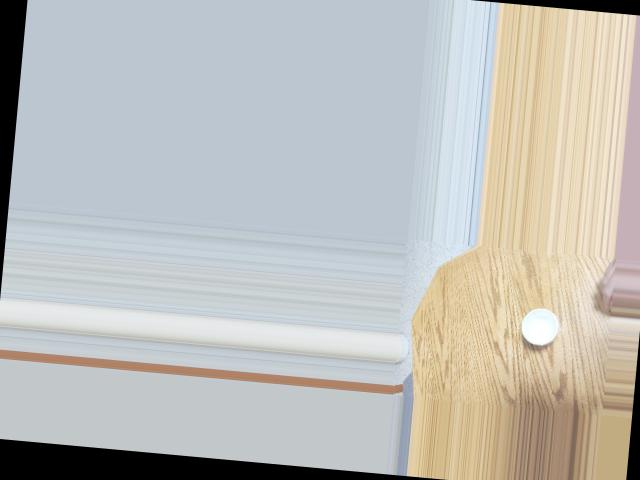cotage: (517, 300, 568, 346)
